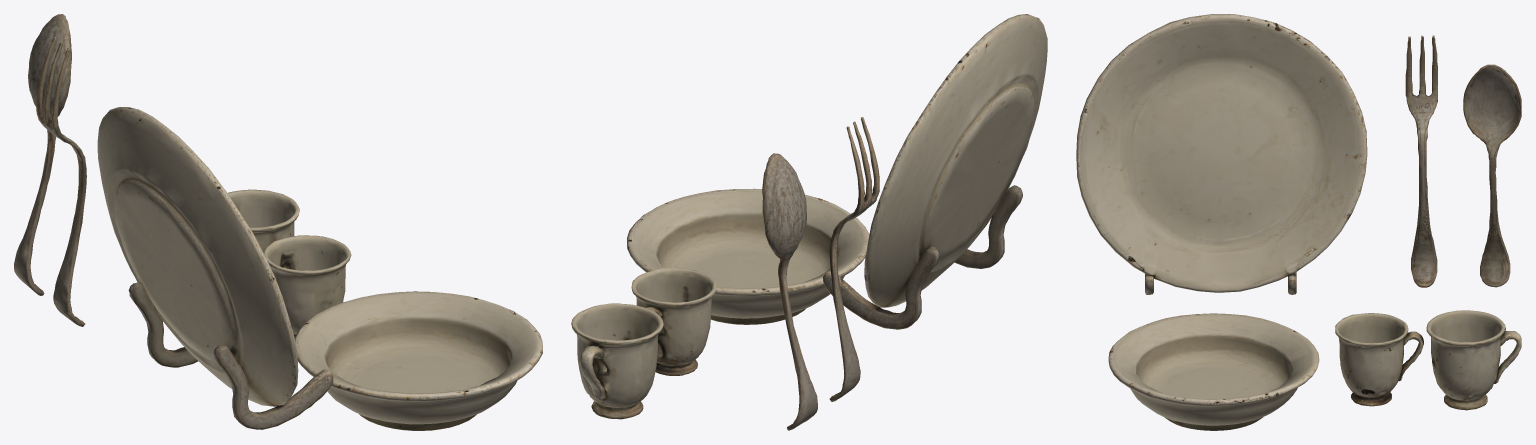
File: theme-place-setting-v05.glb
3 views of the same model, side by side, from view 1: azimuth 30°, elevation 25°; view 2: azimuth 150°, elevation 25°; view 3: azimuth 270°, elevation 25° (orthographic). The views are drawn at different scales.
Visible parts, largest first — view 1: tripo_node_9b16e192-e9b5-43ec-97ef-6408174f6e91; view 2: tripo_node_9b16e192-e9b5-43ec-97ef-6408174f6e91; view 3: tripo_node_9b16e192-e9b5-43ec-97ef-6408174f6e91.
Boxes of the visible parts, box(x1,y1,x2,y2) form: tripo_node_9b16e192-e9b5-43ec-97ef-6408174f6e91: box(14, 14, 542, 430); tripo_node_9b16e192-e9b5-43ec-97ef-6408174f6e91: box(571, 14, 1047, 430); tripo_node_9b16e192-e9b5-43ec-97ef-6408174f6e91: box(1076, 14, 1521, 430).
Bounding box in the file's own units: 0.1607 × 0.14 × 0.196.
Materials: 1 (1 with a texture image).
